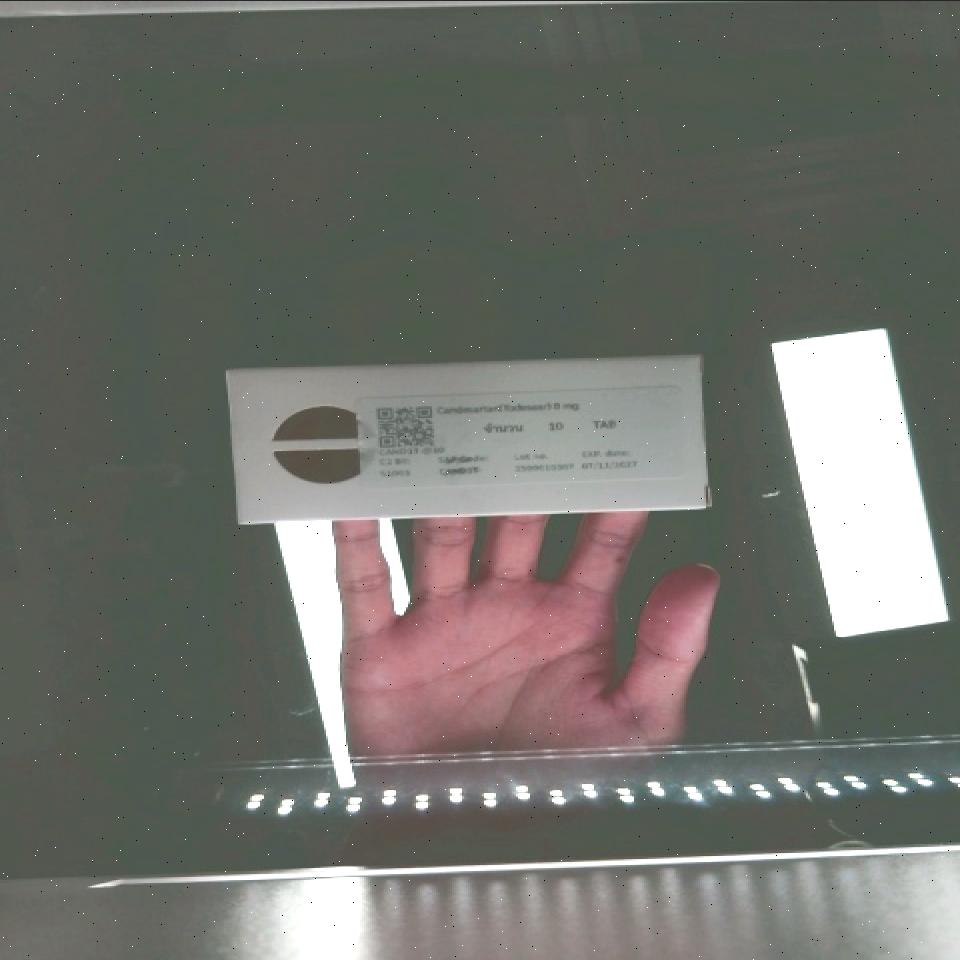medicine_box: (228, 352, 706, 523)
qr_code: (359, 393, 452, 464)
